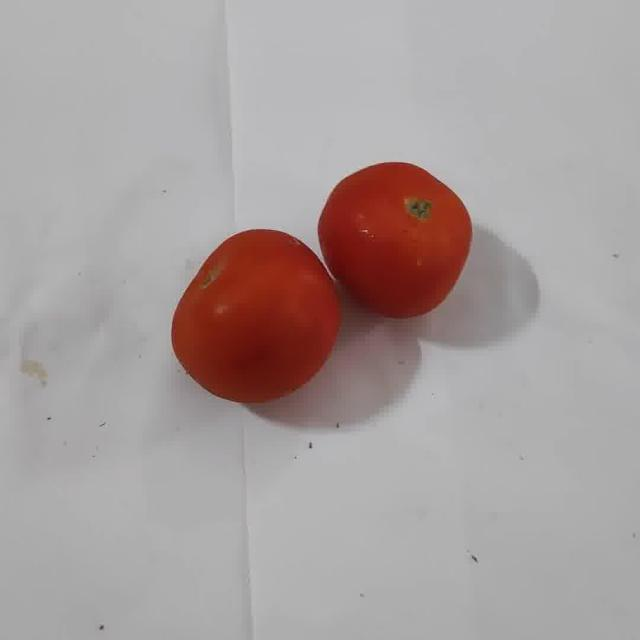Tomato: (172, 229, 340, 405), (318, 163, 471, 317)
